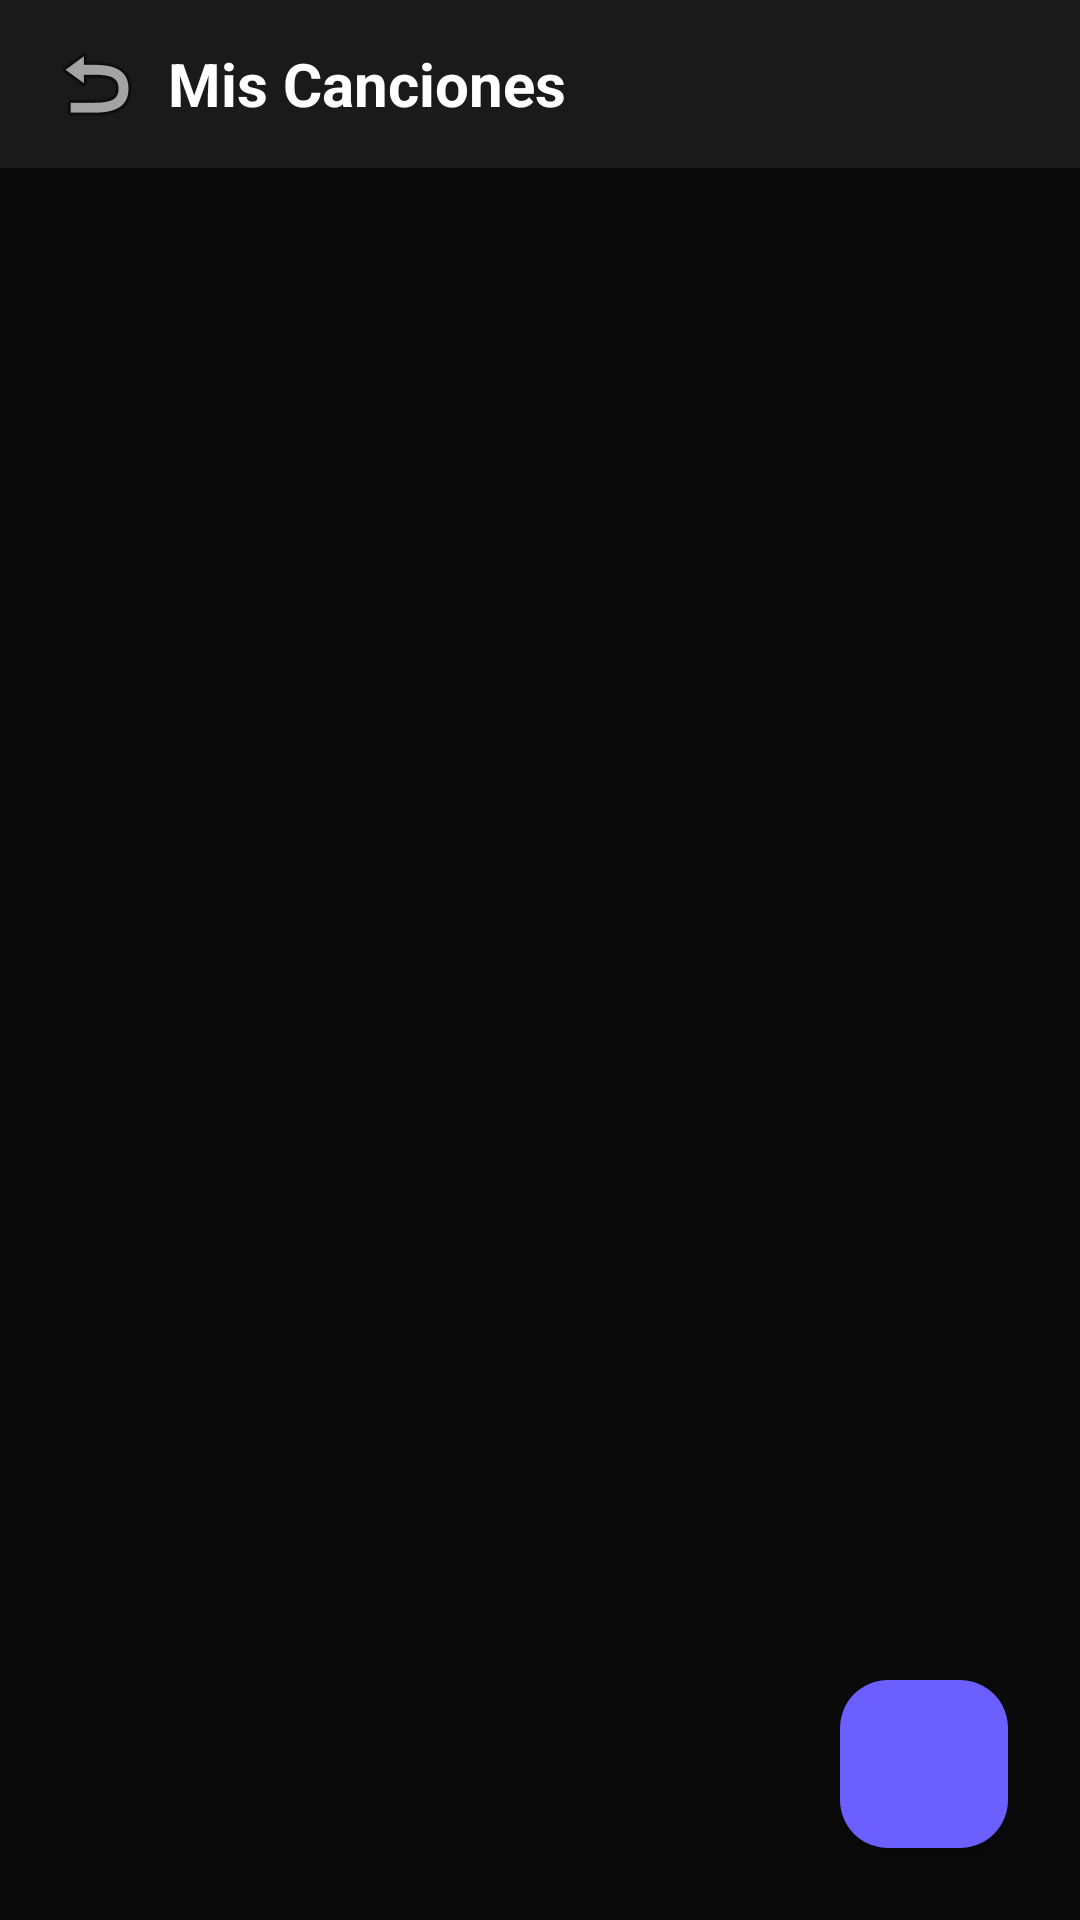

Named icons in this screenshot (1080 x 1920) and their centers, [x,y]:
Volver: [97,84]
